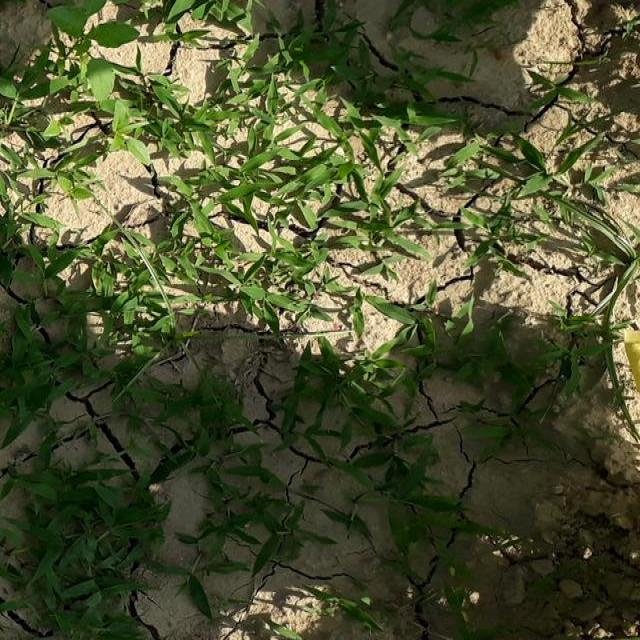weed: (8, 9, 632, 636)
